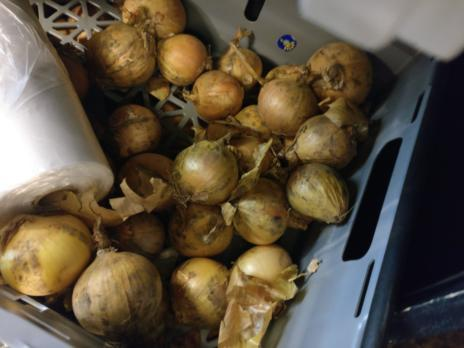Onion: (100, 99, 296, 348), (209, 42, 370, 227), (74, 247, 177, 348), (86, 0, 204, 85), (6, 207, 102, 301)
